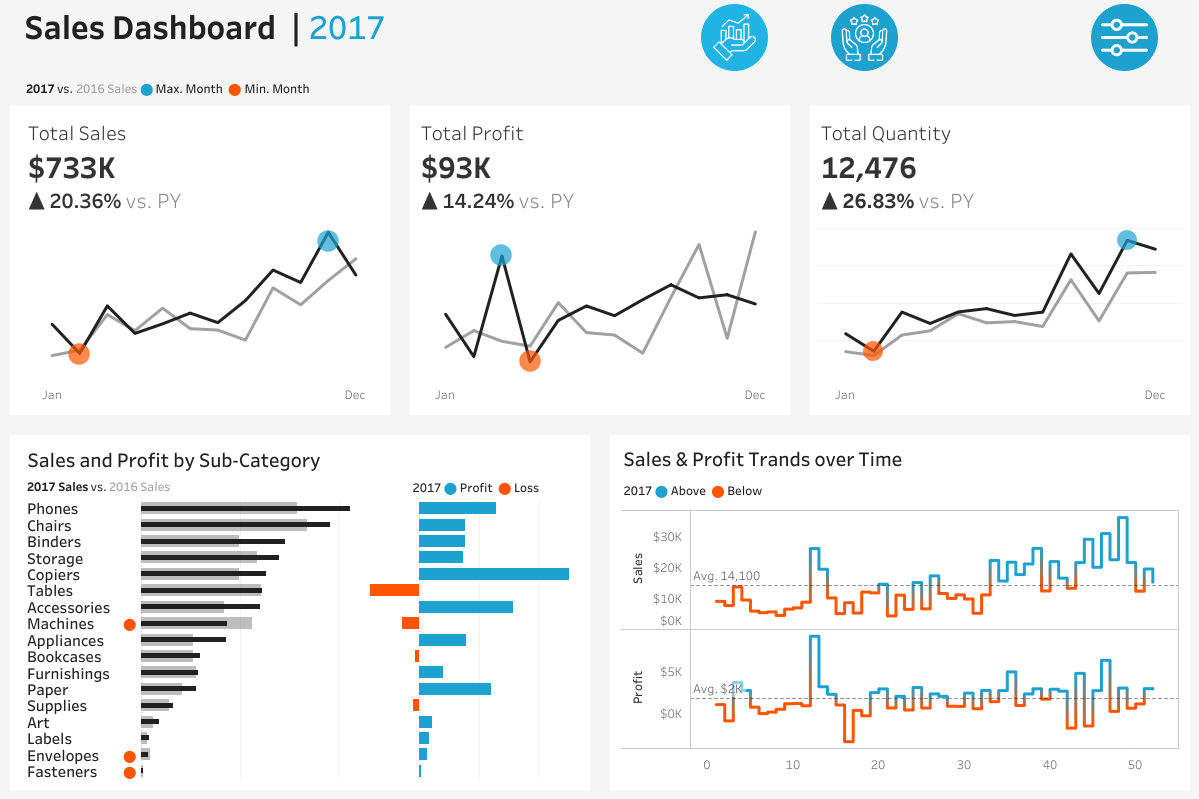

Layout of this report page (visuals, bound fields, positions):
{"tool":"tableau","page":{"name":"Sales Dashboard","canvas":[1200,800],"ordinal":1},"visuals":[{"type":"text","box":[0,0,1200,52]},{"type":"dashboard-object","box":[670,0,130,75]},{"type":"dashboard-object","box":[800,0,130,75]},{"type":"blank","box":[930,0,130,75]},{"type":"dashboard-object","box":[1060,0,130,75]},{"type":"blank","box":[941,10,240,66]},{"type":"worksheet","title":"Legend of KPI","mark":"Automatic","box":[0,70,1200,36]},{"type":"text","box":[941,76,240,34]},{"type":"worksheet","title":"KPI Sales","mark":"Automatic","rows":["Calculation_478507527693307908"],"cols":["Order Date"],"box":[0,106,400,319]},{"type":"worksheet","title":"KPI Profit","mark":"Automatic","rows":["Calculation_478507527704780812"],"cols":["Order Date"],"box":[400,106,400,319]},{"type":"worksheet","title":"KPI Quantity","mark":"Line","rows":["Calculation_667377237235785731"],"cols":["Order Date"],"box":[800,106,400,319]},{"type":"parameter","param":"[Parameters].[Parameter 1]","box":[941,110,240,61]},{"type":"blank","box":[941,171,240,75]},{"type":"text","box":[941,246,240,29]},{"type":"filter","title":"KPI Sales","param":"[federated.08uz19t08srfrs111xc0d11h2edg].[none:Category:nk]","box":[941,275,240,52]},{"type":"filter","title":"KPI Sales","param":"[federated.08uz19t08srfrs111xc0d11h2edg].[none:Sub-Category:nk]","box":[941,327,240,52]},{"type":"blank","box":[941,379,240,78]},{"type":"text","box":[17,442,566,34]},{"type":"text","box":[617,442,566,32]},{"type":"text","box":[941,457,240,29]},{"type":"text","box":[617,474,566,32]},{"type":"worksheet","title":"Legend of Sub-Category Chart","mark":"Automatic","box":[17,476,389,19.6]},{"type":"text","box":[406,476,177,19.6]},{"type":"filter","title":"KPI Sales","param":"[federated.08uz19t08srfrs111xc0d11h2edg].[none:Region:nk]","box":[941,486,240,52]},{"type":"worksheet","title":"Sub-Category Overview","mark":"Bar","rows":["Sub-Category","Calculation_667377237243867143"],"cols":["Calculation_478507527688212481","Calculation_478507527687708672","Calculation_478507527700897801"],"box":[17,495.6,566,287.4]},{"type":"worksheet","title":"Weekly Trends","mark":"Automatic","rows":["Calculation_478507527687708672","Calculation_478507527700897801"],"cols":["Order Date"],"box":[617,506,566,277]},{"type":"filter","title":"KPI Sales","param":"[federated.08uz19t08srfrs111xc0d11h2edg].[none:State:nk]","box":[941,538,240,52]},{"type":"filter","title":"KPI Sales","param":"[federated.08uz19t08srfrs111xc0d11h2edg].[none:City:nk]","box":[941,590,240,52]}]}

Visuals, with their boxes in screenshot pixels (x1, y1, x2, y2), scaled from the page's 1200x800 canvas onto the 1199x799 screenshot:
text: pyautogui.locateOnScreen(0, 0, 1198, 52)
dashboard-object: pyautogui.locateOnScreen(669, 0, 799, 75)
dashboard-object: pyautogui.locateOnScreen(799, 0, 929, 75)
blank: pyautogui.locateOnScreen(929, 0, 1059, 75)
dashboard-object: pyautogui.locateOnScreen(1059, 0, 1189, 75)
blank: pyautogui.locateOnScreen(940, 10, 1180, 76)
"Legend of KPI" worksheet: pyautogui.locateOnScreen(0, 70, 1198, 106)
text: pyautogui.locateOnScreen(940, 76, 1180, 110)
"KPI Sales" worksheet: pyautogui.locateOnScreen(0, 106, 400, 424)
"KPI Profit" worksheet: pyautogui.locateOnScreen(400, 106, 799, 424)
"KPI Quantity" worksheet (Line marks): pyautogui.locateOnScreen(799, 106, 1198, 424)
parameter: pyautogui.locateOnScreen(940, 110, 1180, 171)
blank: pyautogui.locateOnScreen(940, 171, 1180, 246)
text: pyautogui.locateOnScreen(940, 246, 1180, 275)
"KPI Sales" filter: pyautogui.locateOnScreen(940, 275, 1180, 327)
"KPI Sales" filter: pyautogui.locateOnScreen(940, 327, 1180, 379)
blank: pyautogui.locateOnScreen(940, 379, 1180, 456)
text: pyautogui.locateOnScreen(17, 441, 583, 475)
text: pyautogui.locateOnScreen(616, 441, 1182, 473)
text: pyautogui.locateOnScreen(940, 456, 1180, 485)
text: pyautogui.locateOnScreen(616, 473, 1182, 505)
"Legend of Sub-Category Chart" worksheet: pyautogui.locateOnScreen(17, 475, 406, 495)
text: pyautogui.locateOnScreen(406, 475, 583, 495)
"KPI Sales" filter: pyautogui.locateOnScreen(940, 485, 1180, 537)
"Sub-Category Overview" worksheet (Bar marks): pyautogui.locateOnScreen(17, 495, 583, 782)
"Weekly Trends" worksheet: pyautogui.locateOnScreen(616, 505, 1182, 782)
"KPI Sales" filter: pyautogui.locateOnScreen(940, 537, 1180, 589)
"KPI Sales" filter: pyautogui.locateOnScreen(940, 589, 1180, 641)
